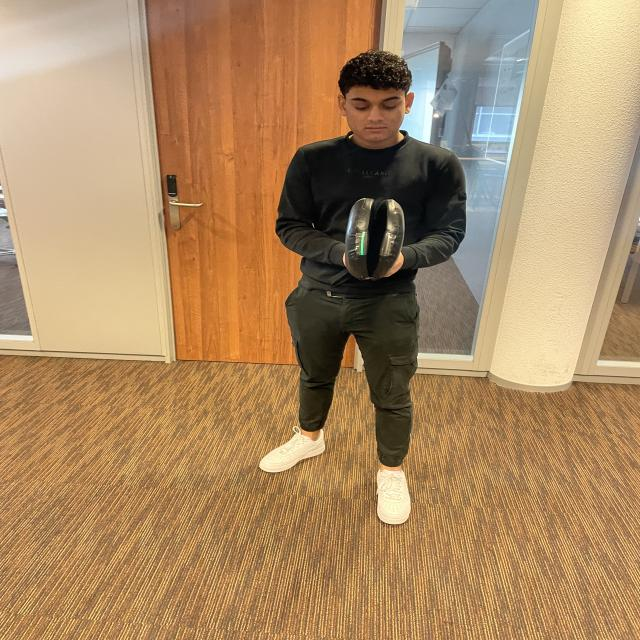paddle: (348, 198, 403, 281)
trigger: (358, 230, 367, 256)
